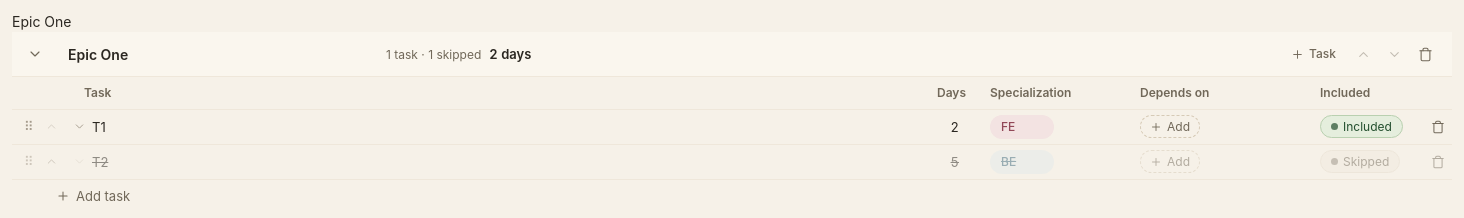
Test case: EpicCard › collapses and expands the task table via the caret
expect the number of fields named "Task name" is 2: met, box [84,113,902,141]; [84,148,902,176]
Collapse hides the task rows.
What coordinates should you click on to do the following:
click the button named "Collapse epic Epic One"
I would click on:
 (35, 54)
Its box is [20,40,50,68].
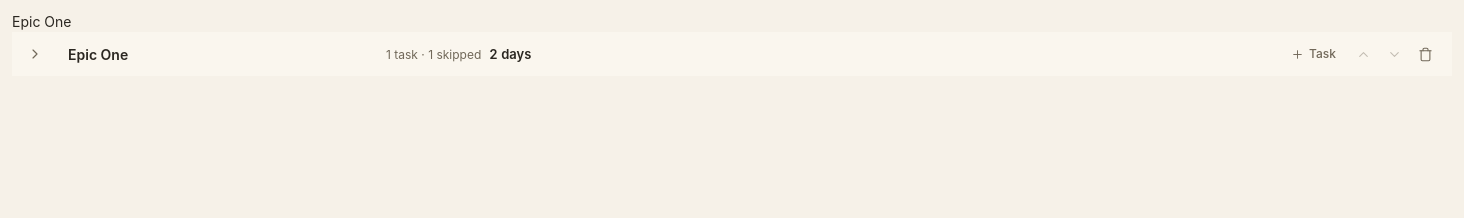
Expand brings them back.
What coordinates should you click on to do the following:
click the button named "Expand epic Epic One"
I would click on:
 (35, 54)
Its box is [20,40,50,68].
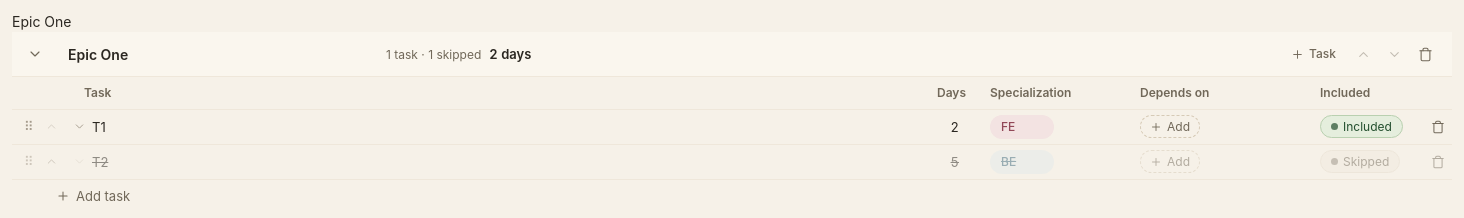
expect the number of fields named "Task name" is 2: met, box [84,113,902,141]; [84,148,902,176]
